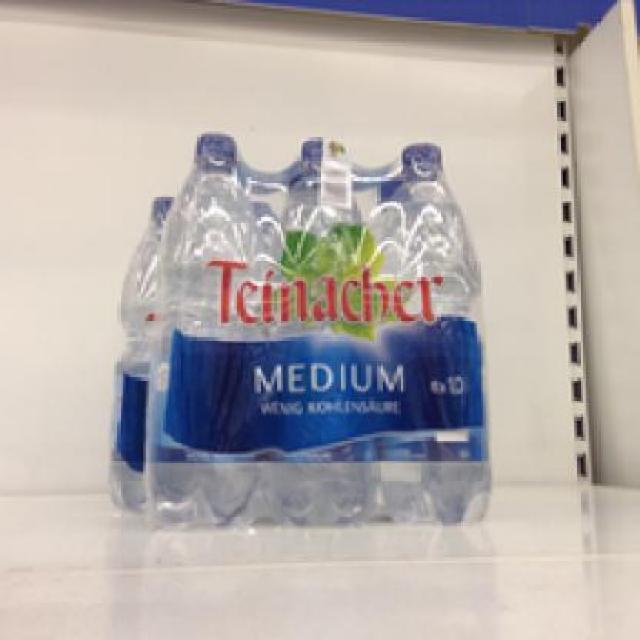Water: (363, 140, 488, 523), (145, 128, 261, 526), (260, 134, 369, 526)
